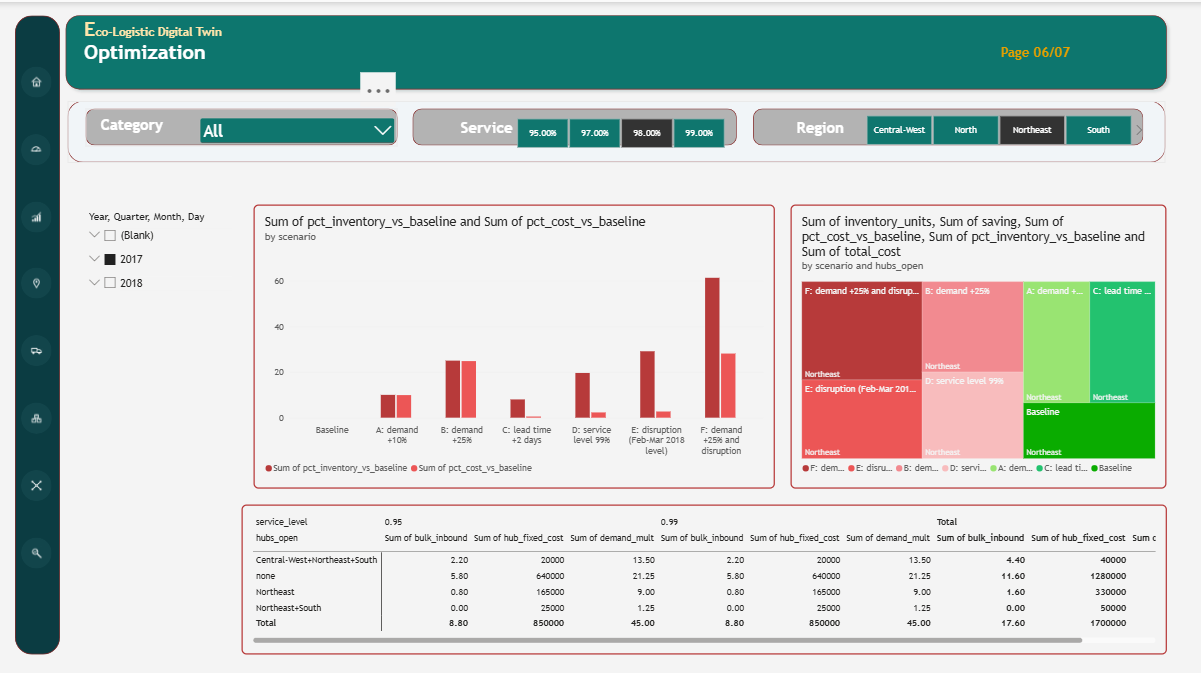

The dashboard page shown, as its layout file describes it:
{"tool":"powerbi","page":{"name":"Optimization","canvas":[1920,1080],"ordinal":6},"visuals":[{"type":"shape","box":[112.1,157.5,1746.5,97.8],"z":0,"group":"g2"},{"type":"textbox","box":[737.2,186.1,456.7,32.7],"z":0,"group":"g4"},{"type":"treemap","fields":{"Details":["scenario_results.hubs_open"],"Group":["scenario_results.scenario"],"Values":["Sum(scenario_results.inventory_units)"]},"box":[1262.5,322.9,597.9,452.1],"z":0},{"type":"shape","box":[139.7,170.5,496.6,58.7],"z":1000,"group":"g2"},{"type":"textbox","box":[1271.1,186.1,272.6,85.9],"z":1000,"group":"g4"},{"type":"clusteredColumnChart","fields":{"Category":["scenario_results.scenario"],"Y":["Sum(scenario_results.pct_inventory_vs_baseline)","Sum(scenario_results.pct_cost_vs_baseline)"]},"box":[408.3,322.9,829.2,452.1],"z":1000},{"type":"shape","box":[661.2,170.5,515.9,58.7],"z":2000,"group":"g2"},{"type":"pivotTable","fields":{"Columns":["hub_scenarios.service_level"],"Rows":["hub_scenarios.hubs_open"],"Values":["Sum(hub_scenarios.bulk_inbound)","Sum(hub_scenarios.hub_fixed_cost)","Sum(hub_scenarios.demand_mult)"]},"box":[388.9,799.3,1472.1,238.6],"z":2000},{"type":"group","id":"g1","title":"Group 2","box":[100,11.1,1797.2,136.1],"z":3000},{"type":"shape","box":[1201.9,170.5,620.8,58.7],"z":3000,"group":"g2"},{"type":"group","id":"g2","title":"Group 3","box":[112.1,157.5,1746.5,97.8],"z":4000},{"type":"slicer","fields":{"Values":["demand_weekly.category"]},"box":[316.3,179.9,320.1,50.3],"z":4000,"group":"g2"},{"type":"group","id":"g3","title":"Group 4","box":[28.6,21.5,71.6,1016.4],"z":5000},{"type":"slicer","fields":{"Values":["demand_weekly.region"]},"box":[1362,179.9,460.8,50.3],"z":5000,"group":"g2"},{"type":"slicer","fields":{"Values":["inventory_policy.service_level"]},"box":[807.4,182.7,369.7,50.3],"z":6000,"group":"g2"},{"type":"slicer","fields":{"Values":["dim_date.date_id.Variation.Date Hierarchy.Year","dim_date.date_id.Variation.Date Hierarchy.Quarter","dim_date.date_id.Variation.Date Hierarchy.Month","dim_date.date_id.Variation.Date Hierarchy.Day"]},"box":[138.4,331.6,235,190],"z":6000},{"type":"shape","box":[100,11.1,1769.4,136.1],"z":7000,"group":"g1"},{"type":"textbox","box":[164,180.7,130.3,45.6],"z":7000,"group":"g2"},{"type":"group","id":"g4","title":"Group 5","box":[737.2,186.1,806.4,85.9],"z":7000},{"type":"textbox","box":[138.9,22.2,1758.3,113.9],"z":8000,"group":"g1"},{"type":"shape","box":[28.6,21.5,71.6,1016.4],"z":14000,"group":"g3"},{"type":"textbox","box":[1519.4,66.7,263.9,55.6],"z":16000,"group":"g1"},{"type":"actionButton","box":[38.8,103.1,48.9,49.6],"z":17000,"group":"g5"},{"type":"actionButton","box":[38.8,851.7,48.9,49.6],"z":21000,"group":"g5"},{"type":"actionButton","box":[38.8,744.9,48.9,49.6],"z":22000,"group":"g5"},{"type":"actionButton","box":[38.7,637.7,49.2,49.9],"z":23000,"group":"g5"},{"type":"actionButton","box":[38.8,530.8,48.9,49.6],"z":24000,"group":"g5"},{"type":"actionButton","box":[38.8,317.1,48.9,49.6],"z":25000,"group":"g5"},{"type":"actionButton","box":[38.8,424,48.9,49.6],"z":26000,"group":"g5"},{"type":"actionButton","box":[39.6,210,47.4,49.9],"z":27000,"group":"g5"},{"type":"group","id":"g5","title":"Group 1","box":[38.7,103.1,49.2,798.2],"z":27001,"group":"g3"}]}

Visuals, with their boxes on the page's 1920x1080 design canvas (x1, y1, x2, y2). These are canvas units, not pixel positions in the 1201x673 screenshot, which may show the page scaled, cropped or inside an application window:
shape: {"x1": 112, "y1": 158, "x2": 1859, "y2": 255}
textbox: {"x1": 737, "y1": 186, "x2": 1194, "y2": 219}
treemap - scenario_results.hubs_open x scenario_results.scenario: {"x1": 1262, "y1": 323, "x2": 1860, "y2": 775}
shape: {"x1": 140, "y1": 170, "x2": 636, "y2": 229}
textbox: {"x1": 1271, "y1": 186, "x2": 1544, "y2": 272}
clusteredColumnChart - scenario_results.scenario x Sum(scenario_results.pct_inventory_vs_baseline): {"x1": 408, "y1": 323, "x2": 1238, "y2": 775}
shape: {"x1": 661, "y1": 170, "x2": 1177, "y2": 229}
pivotTable - hub_scenarios.service_level x hub_scenarios.hubs_open: {"x1": 389, "y1": 799, "x2": 1861, "y2": 1038}
"Group 2" group: {"x1": 100, "y1": 11, "x2": 1897, "y2": 147}
shape: {"x1": 1202, "y1": 170, "x2": 1823, "y2": 229}
"Group 3" group: {"x1": 112, "y1": 158, "x2": 1859, "y2": 255}
slicer - demand_weekly.category: {"x1": 316, "y1": 180, "x2": 636, "y2": 230}
"Group 4" group: {"x1": 29, "y1": 22, "x2": 100, "y2": 1038}
slicer - demand_weekly.region: {"x1": 1362, "y1": 180, "x2": 1823, "y2": 230}
slicer - inventory_policy.service_level: {"x1": 807, "y1": 183, "x2": 1177, "y2": 233}
slicer - dim_date.date_id.Variation.Date Hierarchy.Year x dim_date.date_id.Variation.Date Hierarchy.Quarter: {"x1": 138, "y1": 332, "x2": 373, "y2": 522}
shape: {"x1": 100, "y1": 11, "x2": 1869, "y2": 147}
textbox: {"x1": 164, "y1": 181, "x2": 294, "y2": 226}
"Group 5" group: {"x1": 737, "y1": 186, "x2": 1544, "y2": 272}
textbox: {"x1": 139, "y1": 22, "x2": 1897, "y2": 136}
shape: {"x1": 29, "y1": 22, "x2": 100, "y2": 1038}
textbox: {"x1": 1519, "y1": 67, "x2": 1783, "y2": 122}
actionButton: {"x1": 39, "y1": 103, "x2": 88, "y2": 153}
actionButton: {"x1": 39, "y1": 852, "x2": 88, "y2": 901}
actionButton: {"x1": 39, "y1": 745, "x2": 88, "y2": 794}
actionButton: {"x1": 39, "y1": 638, "x2": 88, "y2": 688}
actionButton: {"x1": 39, "y1": 531, "x2": 88, "y2": 580}
actionButton: {"x1": 39, "y1": 317, "x2": 88, "y2": 367}
actionButton: {"x1": 39, "y1": 424, "x2": 88, "y2": 474}
actionButton: {"x1": 40, "y1": 210, "x2": 87, "y2": 260}
"Group 1" group: {"x1": 39, "y1": 103, "x2": 88, "y2": 901}
